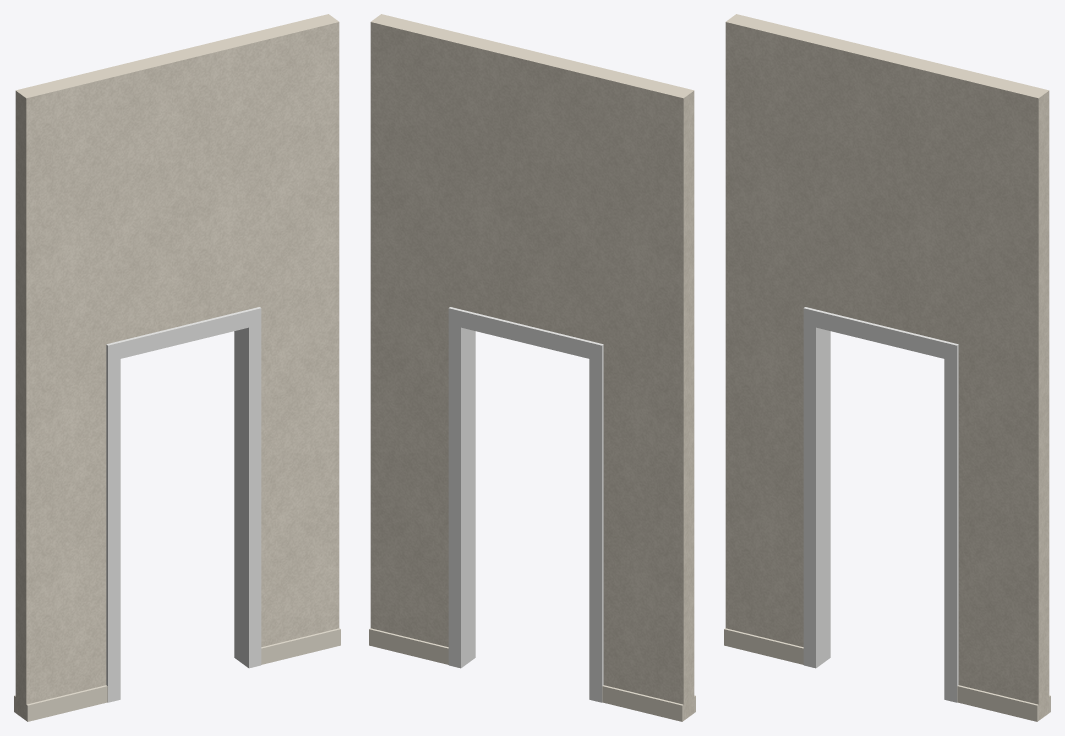
File: interior_wall_doorway_tall.glb
The picture shows the model from 3 angles, left to right: view 1: azimuth 30°, elevation 25°; view 2: azimuth 150°, elevation 25°; view 3: azimuth 330°, elevation 25°; orthographic projection.
Visible parts, largest first — view 1: interior_wall_doorway_tall_plaster, interior_wall_doorway_tall_frame, interior_wall_doorway_tall_trim; view 2: interior_wall_doorway_tall_plaster, interior_wall_doorway_tall_frame, interior_wall_doorway_tall_trim; view 3: interior_wall_doorway_tall_plaster, interior_wall_doorway_tall_frame, interior_wall_doorway_tall_trim.
Part boxes in pixels (box(x1,y1,x2,y2)): interior_wall_doorway_tall_plaster: box(15, 14, 339, 720); interior_wall_doorway_tall_frame: box(106, 307, 261, 702); interior_wall_doorway_tall_trim: box(14, 628, 340, 721); interior_wall_doorway_tall_plaster: box(370, 14, 694, 720); interior_wall_doorway_tall_frame: box(448, 307, 603, 702); interior_wall_doorway_tall_trim: box(369, 628, 695, 721); interior_wall_doorway_tall_plaster: box(725, 14, 1049, 720); interior_wall_doorway_tall_frame: box(803, 307, 958, 702); interior_wall_doorway_tall_trim: box(724, 628, 1050, 721).
Size of the model in its own units: 2 by 3.8 by 0.16.
Materials: 3 (1 with a texture image).
